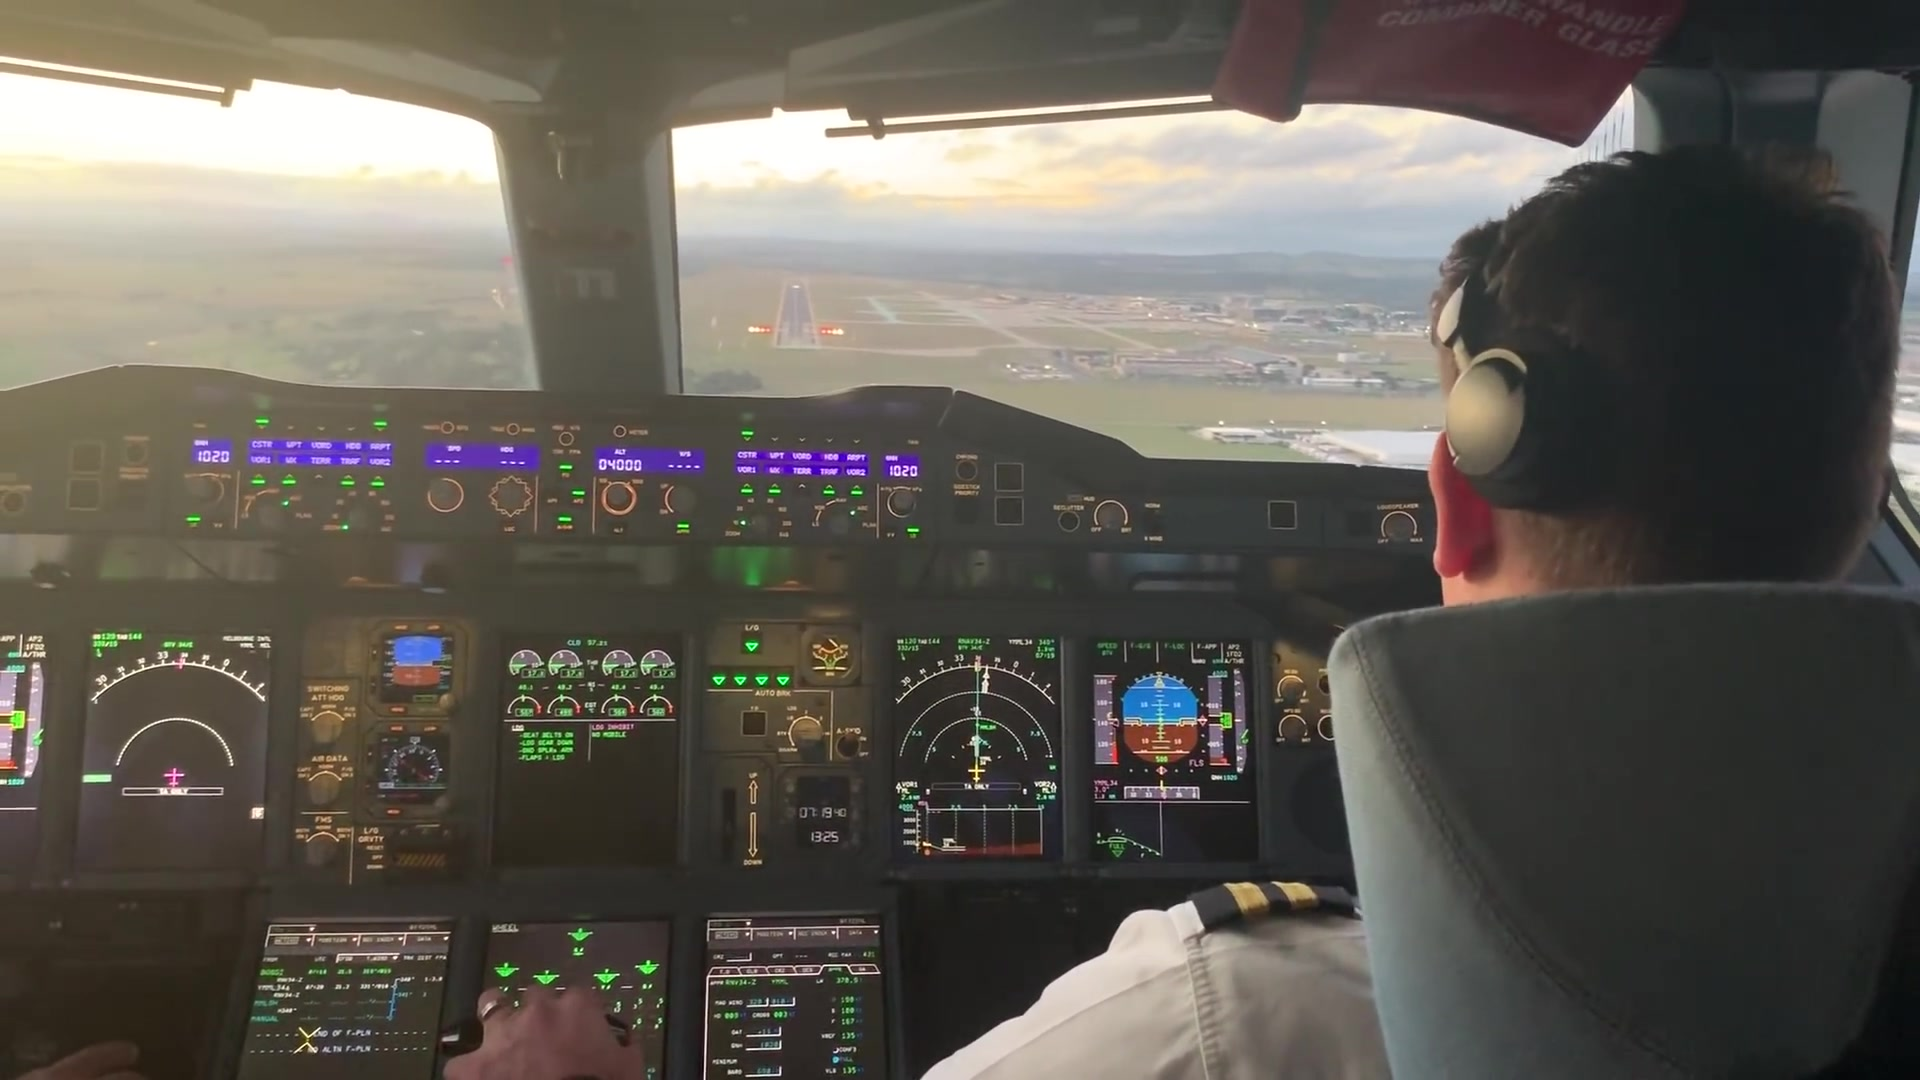runway: (771, 280, 822, 352)
